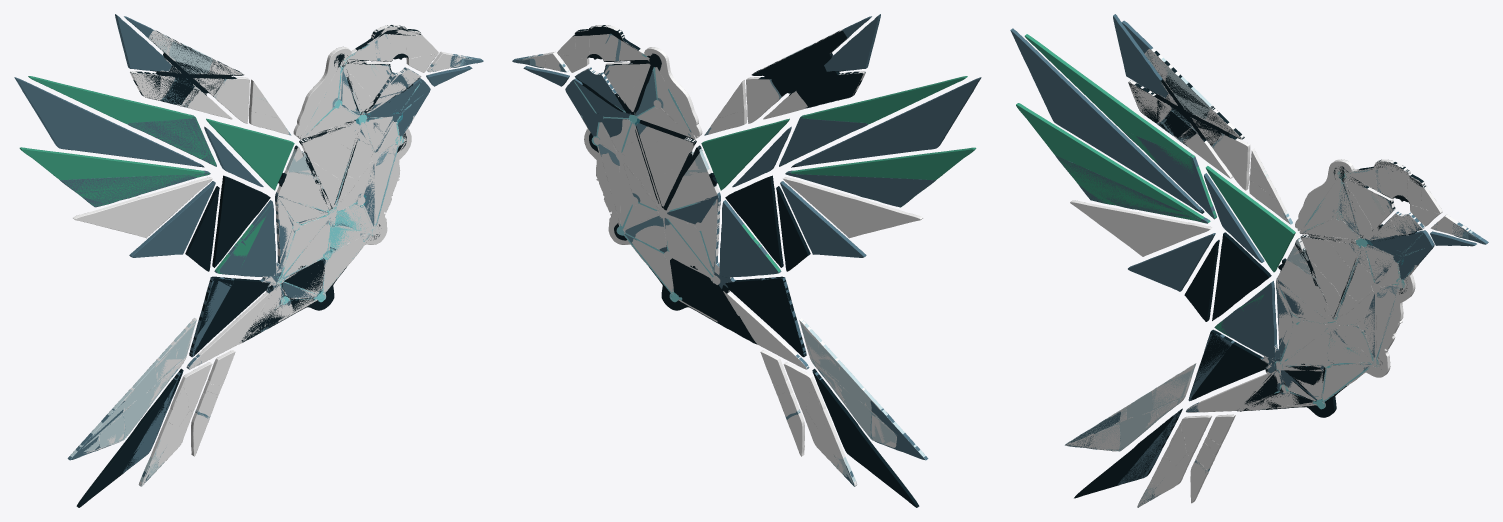
Rendered from vea-bird-recraft-3d.glb.
The picture shows the model from 3 angles, left to right: view 1: azimuth 30°, elevation 25°; view 2: azimuth 150°, elevation 25°; view 3: azimuth 330°, elevation 25°; orthographic projection.
Size of the model in its own units: 2 by 1.98 by 0.0184.
